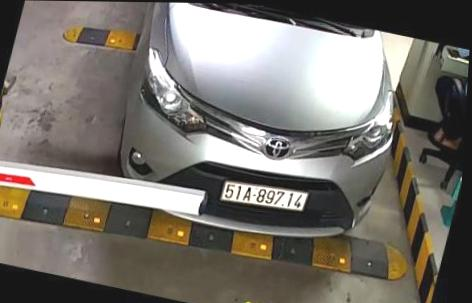License_Plate: (218, 176, 310, 222)
